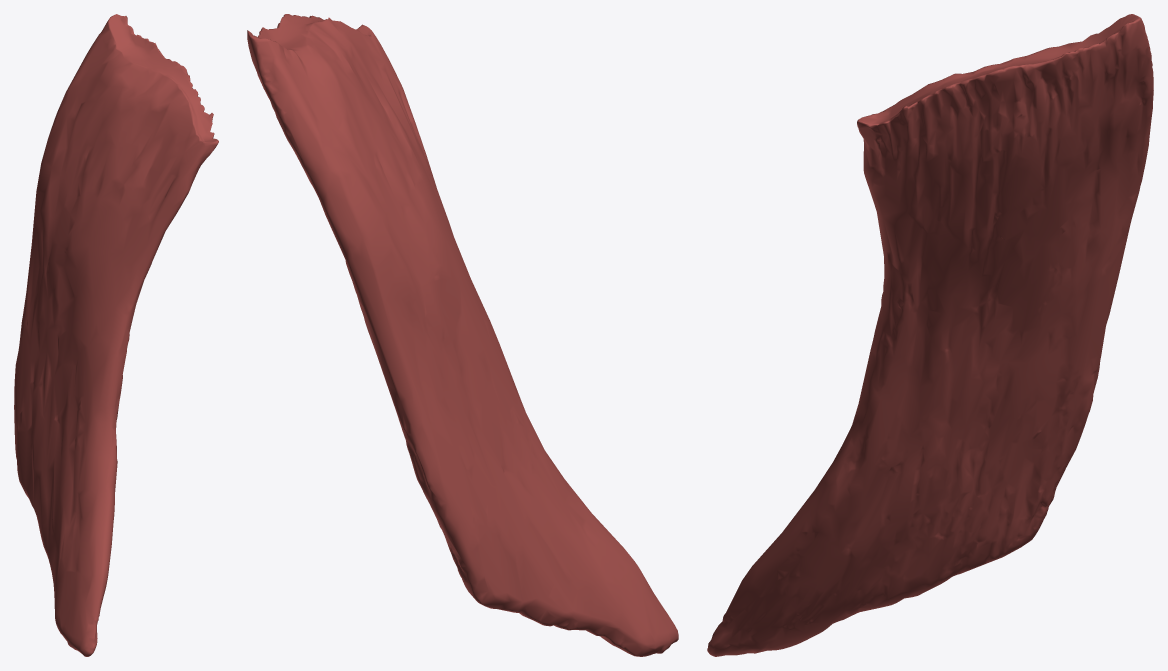
The model's file is FMA49002.glb.
3 renders of one model, left to right at view 1: azimuth 30°, elevation 25°; view 2: azimuth 150°, elevation 25°; view 3: azimuth 270°, elevation 25°, orthographic. The views are drawn at different scales.
Visible parts, largest first — view 1: FMA49002; view 2: FMA49002; view 3: FMA49002.
Part boxes in pixels (x1=…): FMA49002: x1=14, y1=14, x2=218, y2=656; FMA49002: x1=247, y1=14, x2=678, y2=656; FMA49002: x1=707, y1=14, x2=1153, y2=656.
Bounding box in the file's own units: 0.0261 × 0.0633 × 0.0336.
